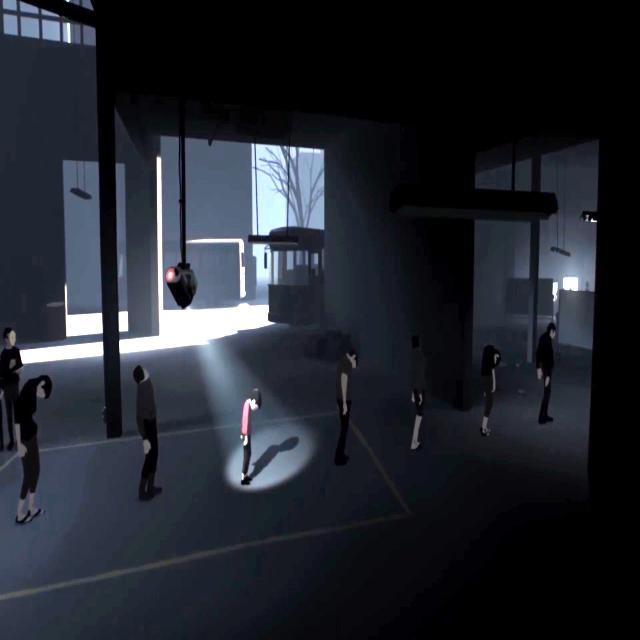boy: (240, 388, 263, 487)
human: (2, 327, 23, 413)
zombie: (10, 373, 52, 527), (133, 362, 162, 500), (536, 322, 555, 423), (409, 335, 425, 451), (480, 346, 500, 436)
